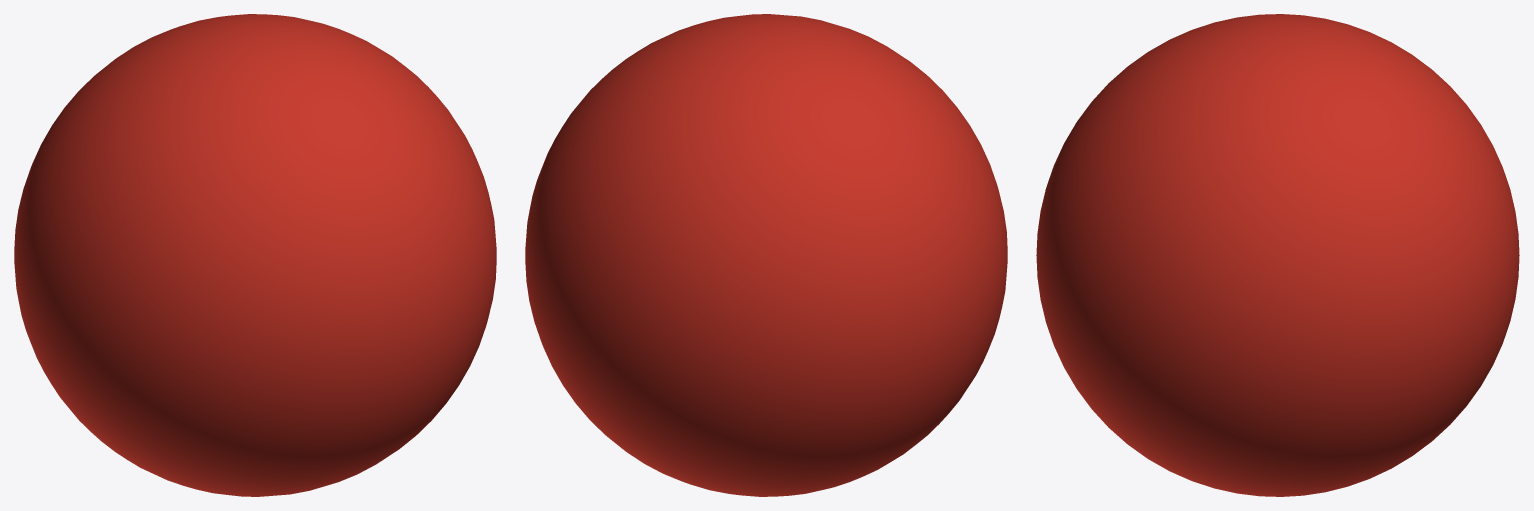
File: Red_ball v2.fbx
3 renders of one model, left to right at view 1: azimuth 30°, elevation 25°; view 2: azimuth 150°, elevation 25°; view 3: azimuth 270°, elevation 25°, orthographic.
Parts seen in each view (by area): view 1: Body1; view 2: Body1; view 3: Body1.
Part boxes in pixels (box(x1,y1,x2,y2)): Body1: box(14, 14, 496, 496); Body1: box(525, 14, 1007, 496); Body1: box(1036, 14, 1519, 496).
Bounding box in the file's own units: 50 × 49.99 × 50.
